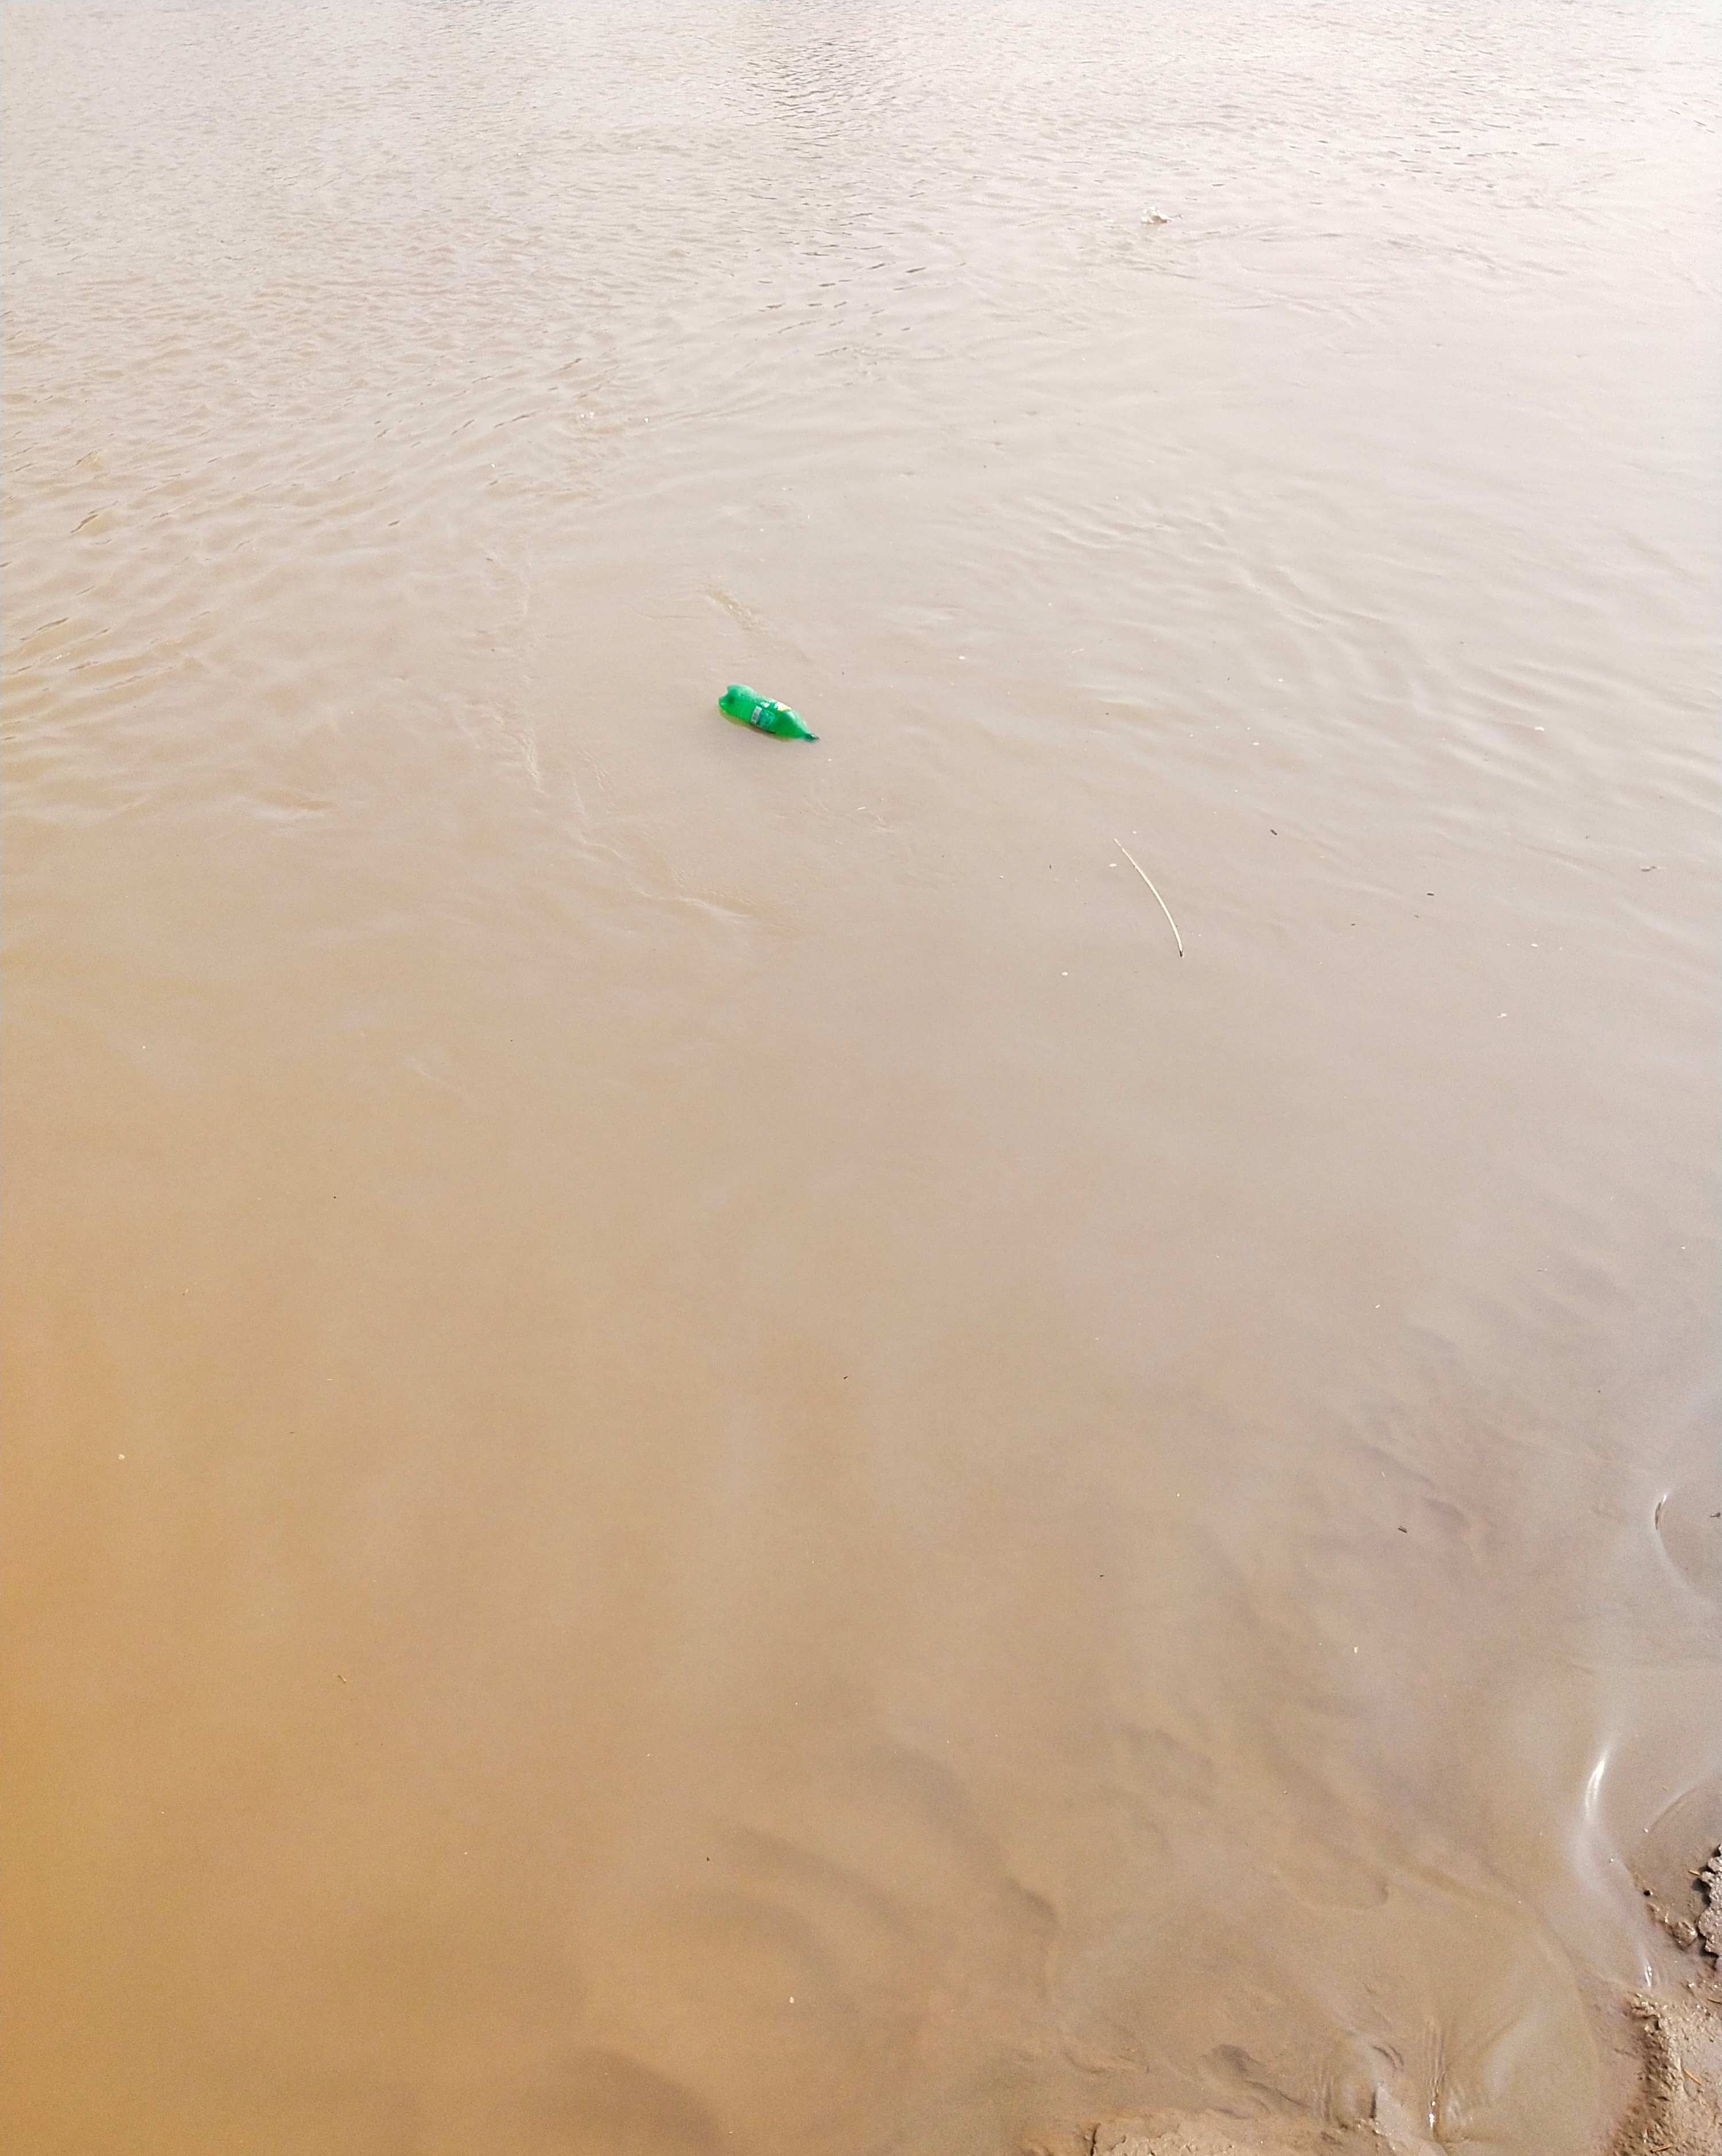Plastic Bottle: (719, 684, 819, 742), (1140, 206, 1168, 223)
